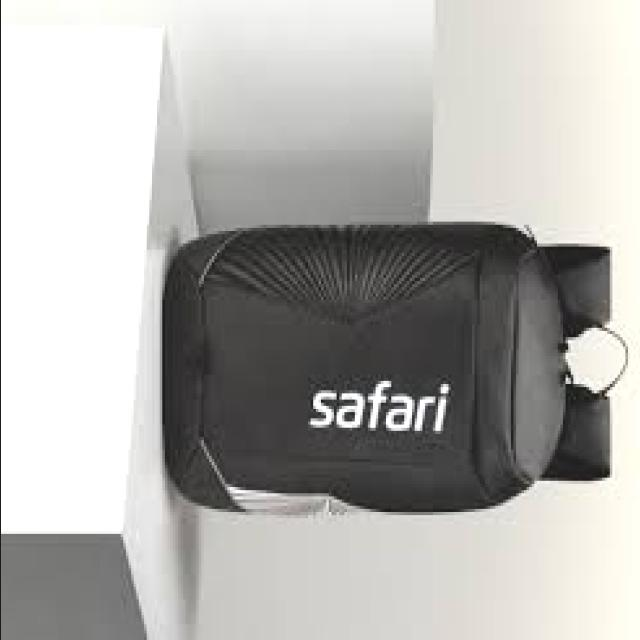backpack: (163, 220, 631, 520)
